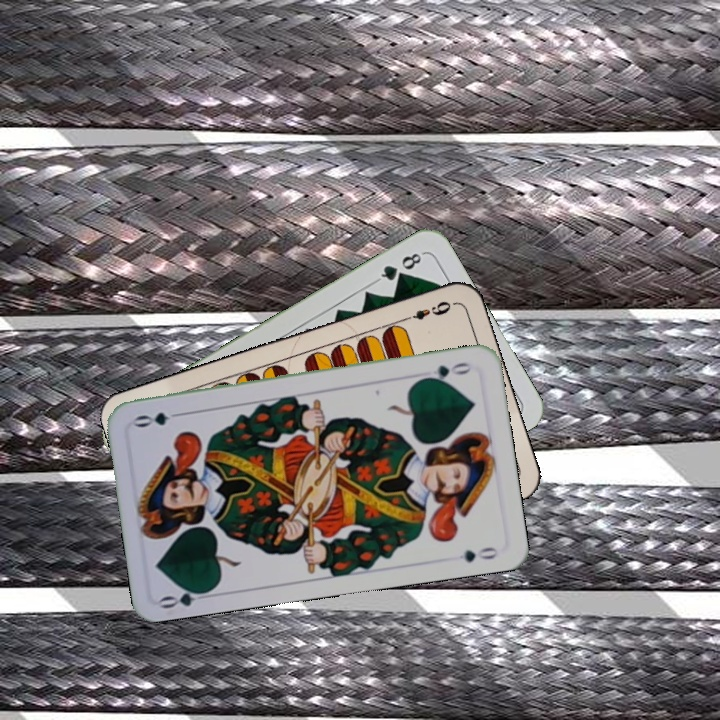E9: (399, 297, 454, 324)
G8: (373, 248, 426, 285)
GO: (157, 582, 216, 611), (417, 358, 476, 384)
